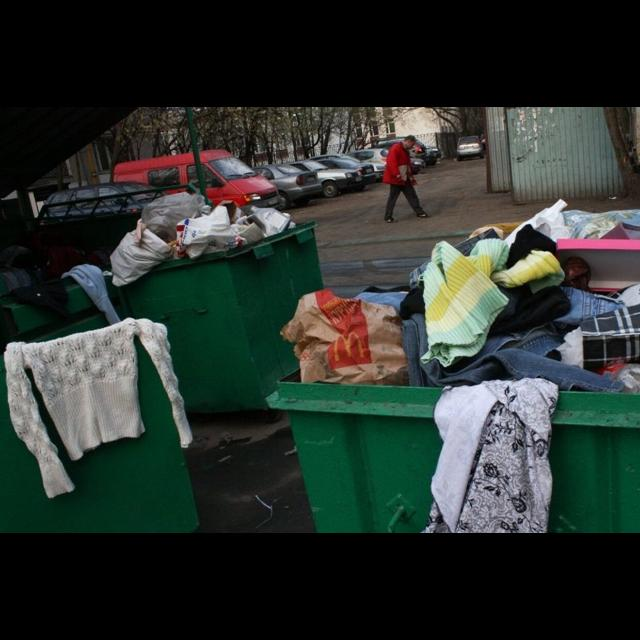Trash_Can_Full: (265, 206, 640, 533), (108, 191, 326, 423)
